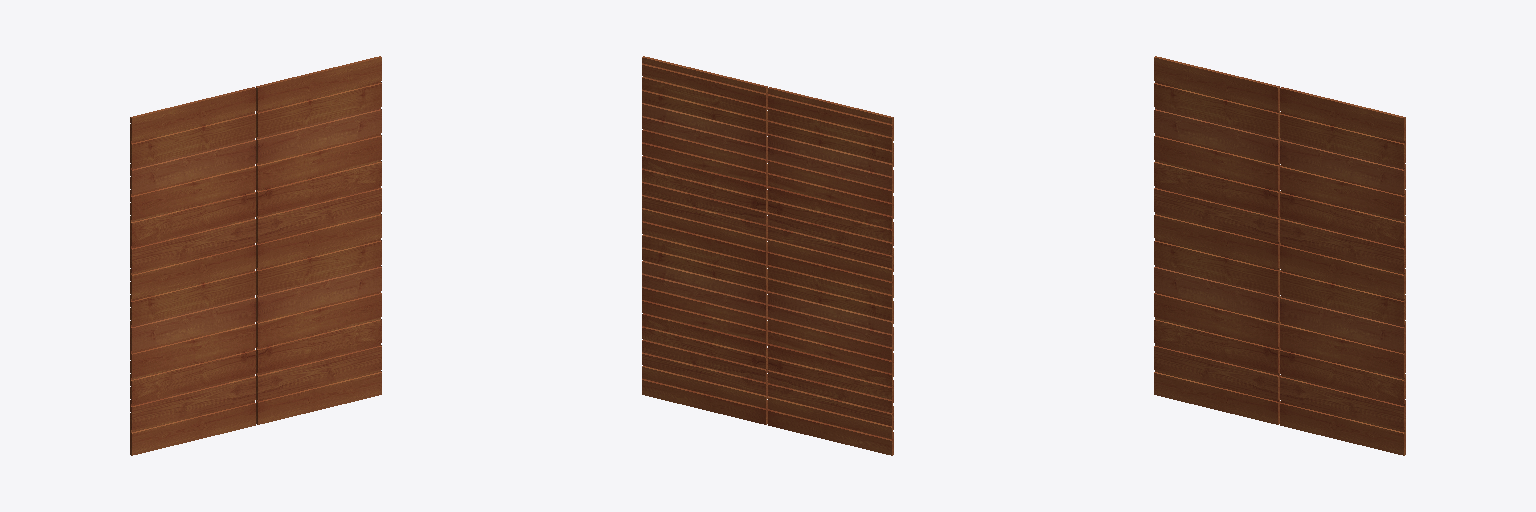
3 views of the same model, side by side, from view 1: azimuth 30°, elevation 25°; view 2: azimuth 150°, elevation 25°; view 3: azimuth 330°, elevation 25° (orthographic).
Parts seen in each view (by area): view 1: plank022, plank018, plank013, plank004, plank019, plank020, plank002, plank017, plank003, plank021, plank016, plank010 (+14 smaller); view 2: plank001, plank026, plank002, plank013, plank019, plank020, plank004, plank022, plank018, plank003, plank024, plank005 (+14 smaller); view 3: plank022, plank019, plank013, plank002, plank018, plank020, plank004, plank003, plank005, plank014, plank015, plank021 (+14 smaller).
Boxes of the visible parts, <box> form: plank022: <box>256,81,381,136</box>; plank018: <box>256,344,381,399</box>; plank013: <box>130,112,255,167</box>; plank004: <box>130,322,255,377</box>; plank019: <box>256,291,381,346</box>; plank020: <box>256,317,381,372</box>; plank002: <box>130,374,255,429</box>; plank017: <box>256,265,381,320</box>; plank003: <box>130,348,255,403</box>; plank021: <box>256,160,381,215</box>; plank016: <box>256,239,381,294</box>; plank010: <box>130,191,255,246</box>; plank001: <box>768,396,893,455</box>; plank026: <box>642,366,767,424</box>; plank002: <box>768,370,893,429</box>; plank013: <box>768,107,893,166</box>; plank019: <box>642,287,767,345</box>; plank020: <box>642,313,767,372</box>; plank004: <box>768,317,893,376</box>; plank022: <box>642,77,767,135</box>; plank018: <box>642,340,767,398</box>; plank003: <box>768,344,893,402</box>; plank024: <box>642,103,767,162</box>; plank005: <box>768,291,893,350</box>; plank022: <box>1280,112,1405,167</box>; plank019: <box>1280,322,1405,377</box>; plank013: <box>1154,81,1279,136</box>; plank002: <box>1154,344,1279,399</box>; plank018: <box>1280,374,1405,429</box>; plank020: <box>1280,348,1405,403</box>; plank004: <box>1154,291,1279,346</box>; plank003: <box>1154,317,1279,372</box>; plank005: <box>1154,265,1279,320</box>; plank014: <box>1280,217,1405,272</box>; plank015: <box>1280,243,1405,298</box>; plank021: <box>1280,191,1405,246</box>.
Bounding box in the file's own units: 60.44 × 78.01 × 0.7481.
6 materials, 6 textured.